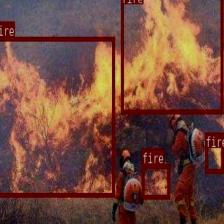fire: (0, 37, 114, 196), (120, 0, 222, 112), (141, 164, 169, 198), (205, 132, 223, 172)
